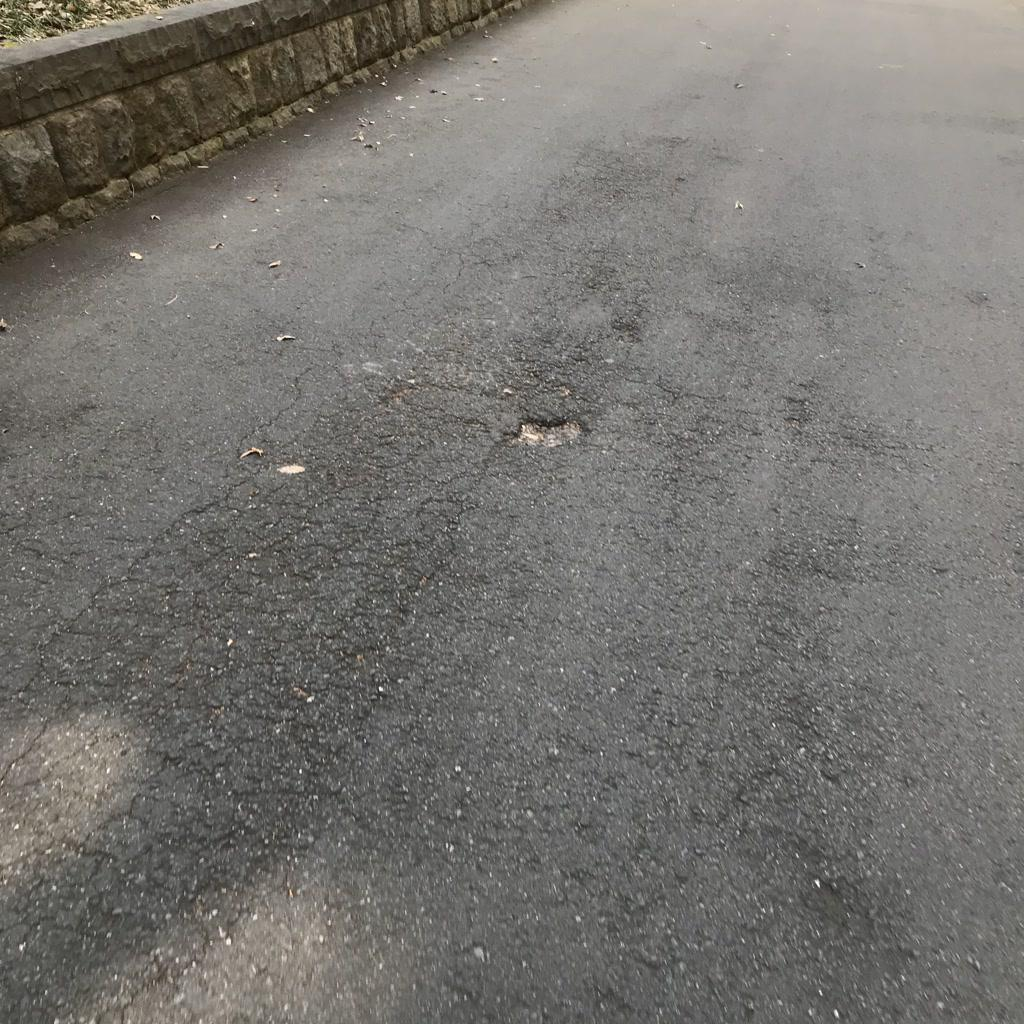D40: (501, 411, 605, 461)
